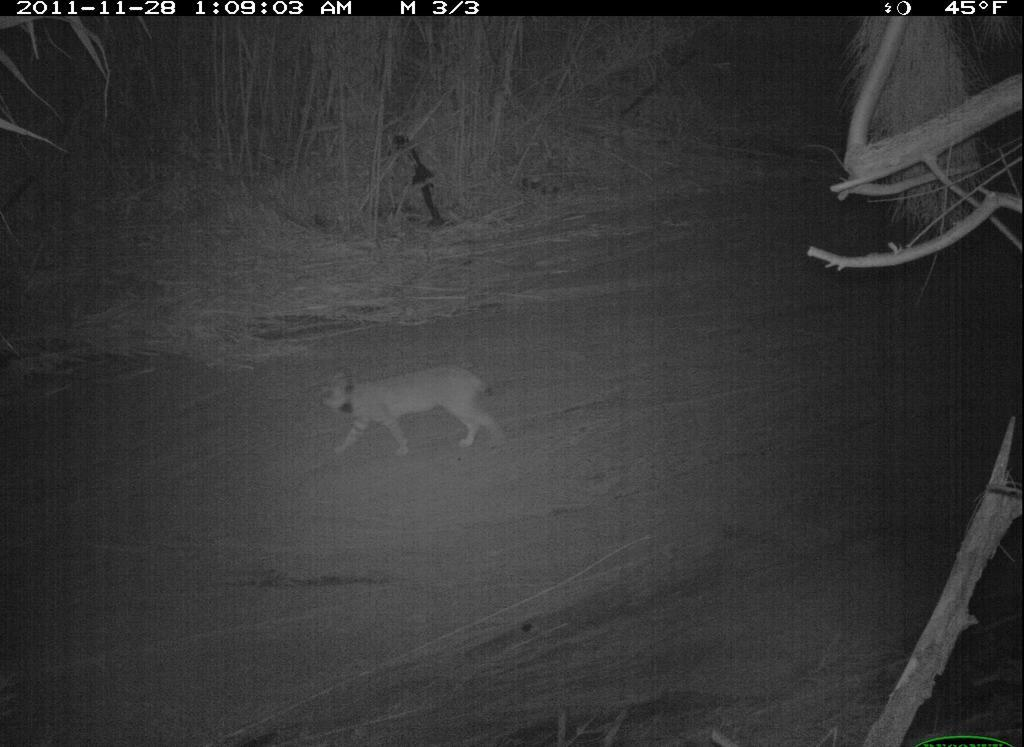bobcat: (310, 361, 519, 473)
